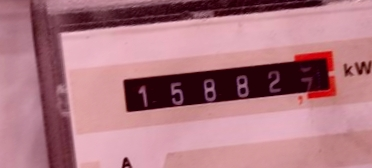1: (135, 79, 152, 108)
2: (266, 65, 284, 94)
5: (167, 76, 188, 105)
7: (298, 72, 316, 90)
8: (200, 73, 219, 103), (234, 69, 252, 98)
screen: (109, 40, 348, 124)
